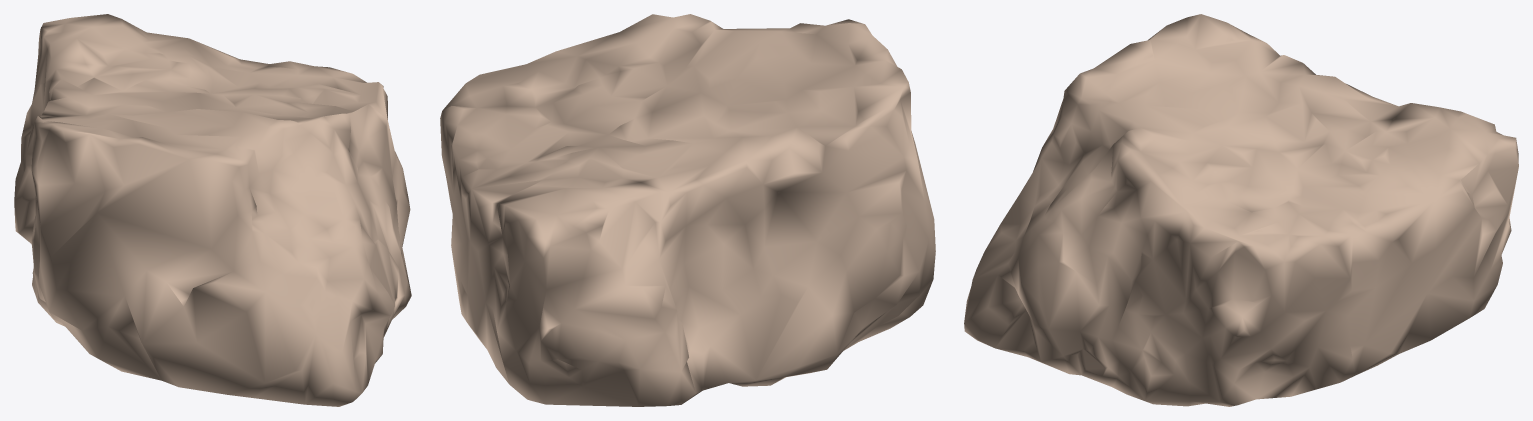
Rendered from rk_boulder_a.glb.
3 views of the same model, side by side, from view 1: azimuth 30°, elevation 25°; view 2: azimuth 150°, elevation 25°; view 3: azimuth 270°, elevation 25° (orthographic). The views are drawn at different scales.
Visible parts, largest first — view 1: boulder_03_LOD0; view 2: boulder_03_LOD0; view 3: boulder_03_LOD0.
Boxes of the visible parts, x1=… form: boulder_03_LOD0: x1=14, y1=14, x2=411, y2=406; boulder_03_LOD0: x1=440, y1=14, x2=935, y2=406; boulder_03_LOD0: x1=964, y1=14, x2=1518, y2=406.
Size of the model in its own units: 0.7841 by 0.4804 by 0.9972.
